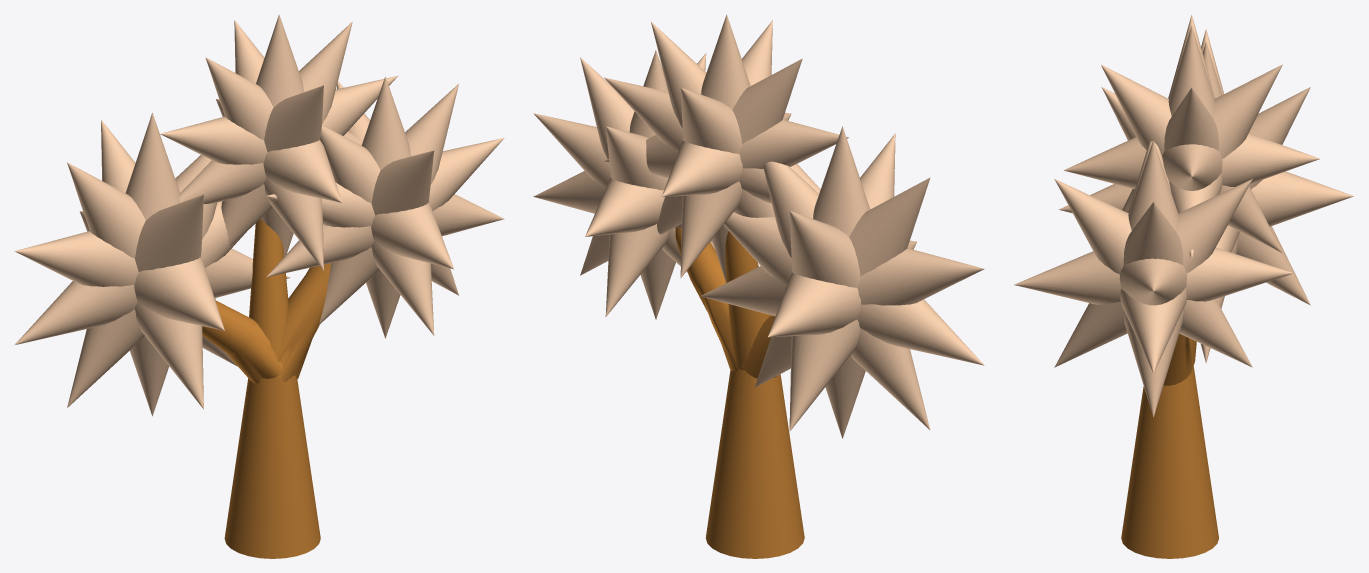
Rendered from SurpriseLv3.glb.
The picture shows the model from 3 angles, left to right: view 1: azimuth 30°, elevation 25°; view 2: azimuth 150°, elevation 25°; view 3: azimuth 270°, elevation 25°; orthographic projection. The views are drawn at different scales.
Visible parts, largest first — view 1: Cone029 (×21), Cone151 (×18), Cone085 (×17), Batang005, Atas002, Kanan002, Kiri002; view 2: Cone029 (×26), Cone151 (×18), Cone085 (×11), Batang005, Kanan002, Atas002, Kiri002; view 3: Cone085 (×16), Cone151 (×13), Batang005, Cone029 (×5), Kanan002.
Part boxes in pixels (left/top/right/bottom): Cone029 (×21): left=14, top=113, right=290, bottom=415; Cone151 (×18): left=160, top=14, right=397, bottom=270; Cone085 (×17): left=266, top=77, right=504, bottom=337; Batang005: left=224, top=375, right=320, bottom=558; Atas002: left=249, top=219, right=290, bottom=368; Kanan002: left=277, top=263, right=331, bottom=381; Kiri002: left=202, top=300, right=287, bottom=383; Cone029 (×26): left=701, top=127, right=984, bottom=438; Cone151 (×18): left=604, top=15, right=849, bottom=278; Cone085 (×11): left=533, top=57, right=675, bottom=319; Batang005: left=705, top=369, right=804, bottom=558; Kanan002: left=675, top=227, right=739, bottom=371; Atas002: left=725, top=231, right=771, bottom=370; Kiri002: left=741, top=315, right=776, bottom=378; Cone085 (×16): left=1014, top=140, right=1293, bottom=417; Cone151 (×13): left=1063, top=26, right=1320, bottom=258; Batang005: left=1121, top=365, right=1218, bottom=558; Cone029 (×5): left=1059, top=87, right=1353, bottom=305; Kanan002: left=1163, top=333, right=1192, bottom=385.
Size of the model in its own units: 1.94 by 2.04 by 1.21.
